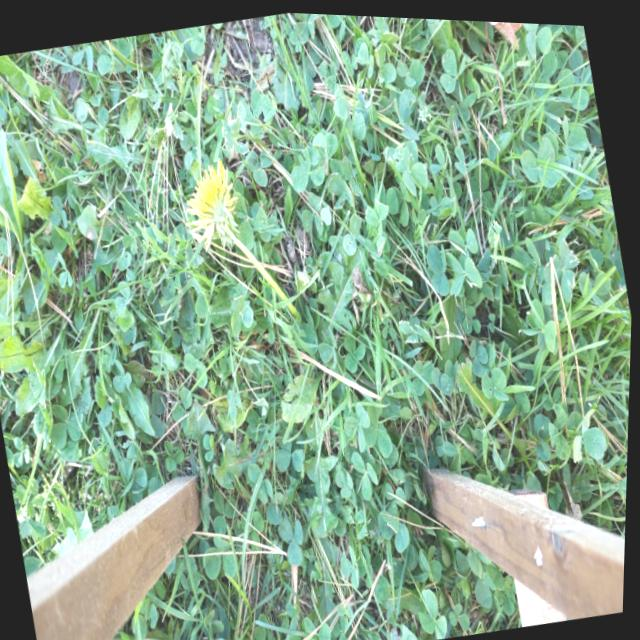base: (288, 295, 314, 335)
